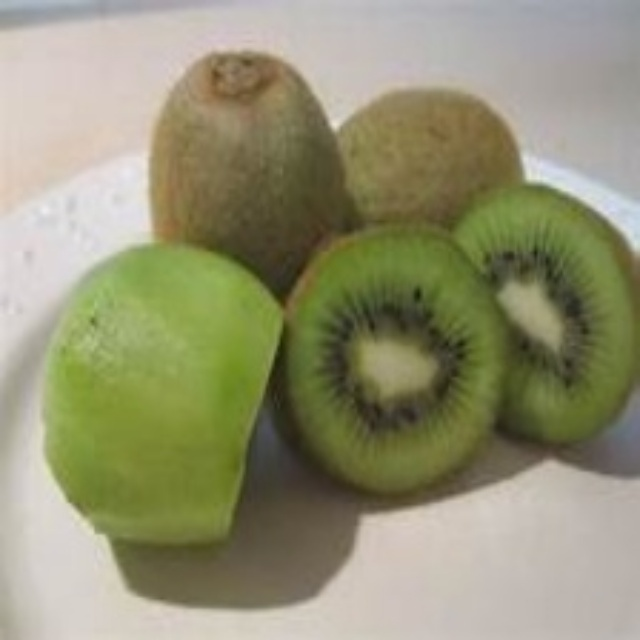kiwi: (282, 193, 639, 508), (52, 244, 269, 555), (148, 31, 339, 285), (333, 83, 523, 225)
